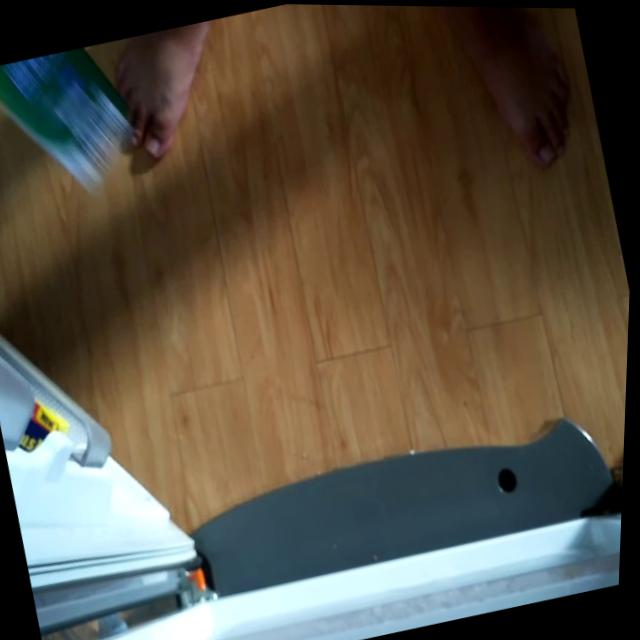milk: (0, 28, 191, 217)
